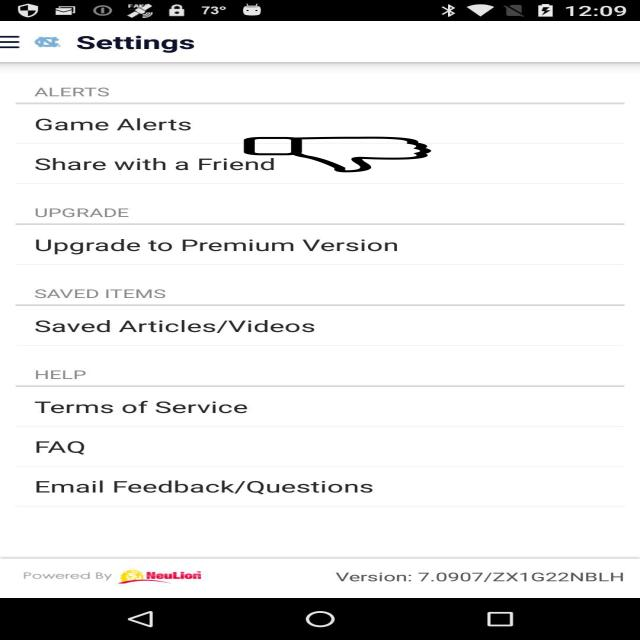obstruction: (241, 137, 434, 172)
